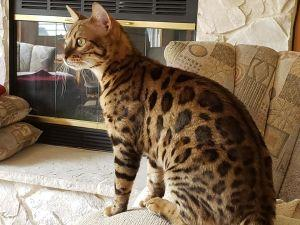bengal: (54, 1, 133, 77)
